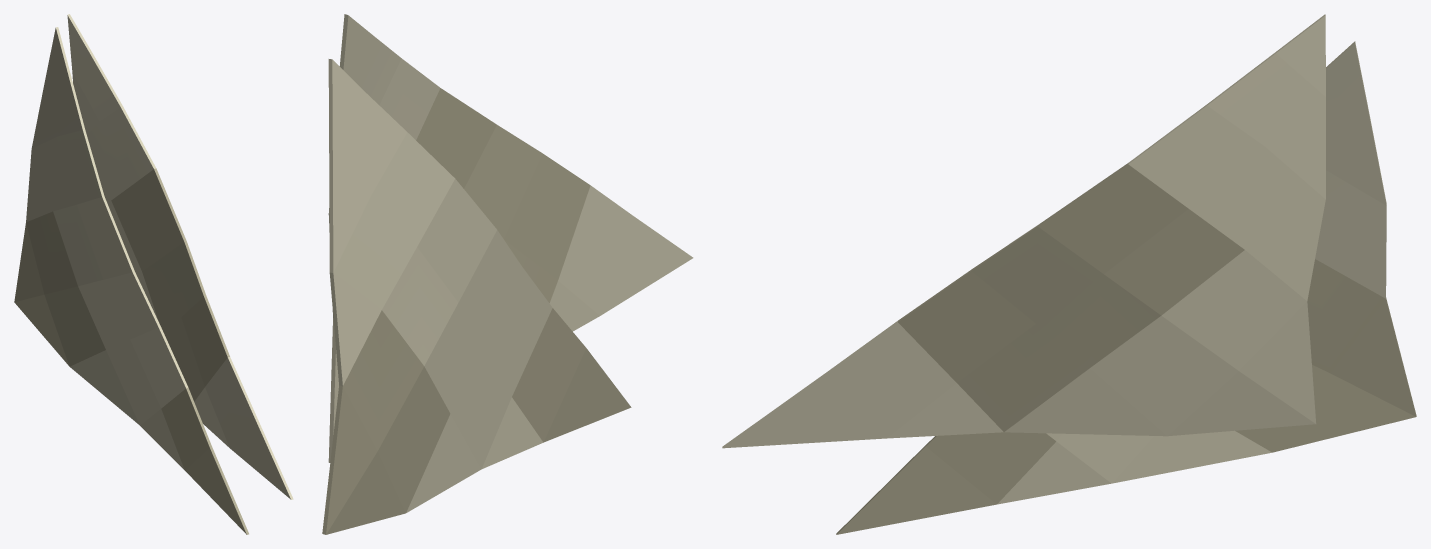
The model's file is LargeShip_3_Sails1.fbx.
3 renders of one model, left to right at view 1: azimuth 30°, elevation 25°; view 2: azimuth 150°, elevation 25°; view 3: azimuth 270°, elevation 25°, orthographic. The views are drawn at different scales.
Parts seen in each view (by area): view 1: LargeShip_3_Sails1; view 2: LargeShip_3_Sails1; view 3: LargeShip_3_Sails1.
Boxes of the visible parts, left/top/right/bottom form: LargeShip_3_Sails1: left=14, top=14, right=293, bottom=534; LargeShip_3_Sails1: left=322, top=14, right=693, bottom=534; LargeShip_3_Sails1: left=722, top=14, right=1416, bottom=534.
Size of the model in its own units: 110 by 1048 by 1265.
